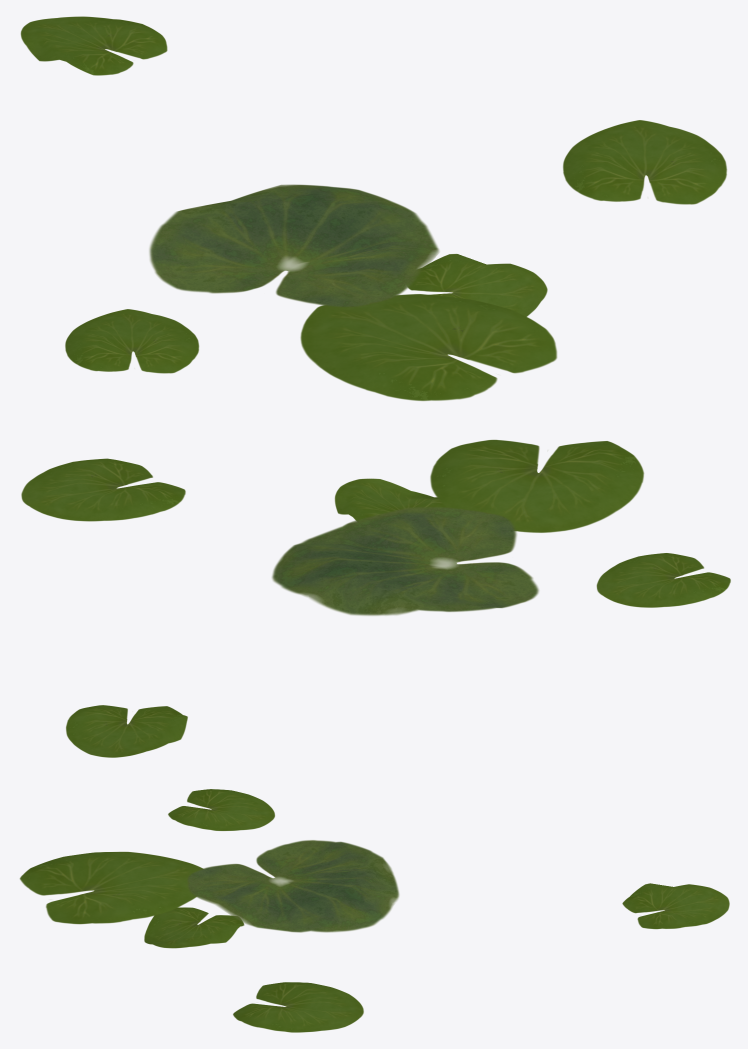
The model's file is SM_Plant_WaterLily_03.gltf.
The picture shows the model from 3 angles, top to bottom: view 1: azimuth 30°, elevation 25°; view 2: azimuth 150°, elevation 25°; view 3: azimuth 270°, elevation 25°; orthographic projection. The views are drawn at different scales.
Visible parts, largest first — view 1: SM_Plant_WaterLily_03; view 2: SM_Plant_WaterLily_03; view 3: SM_Plant_WaterLily_03.
Part boxes in pixels (left/top/right/bottom): SM_Plant_WaterLily_03: left=20, top=16, right=726, bottom=400; SM_Plant_WaterLily_03: left=21, top=439, right=730, bottom=757; SM_Plant_WaterLily_03: left=20, top=789, right=729, bottom=1032.
Size of the model in its own units: 1.36 by 0.0681 by 1.67.
1 material, 1 textured.
